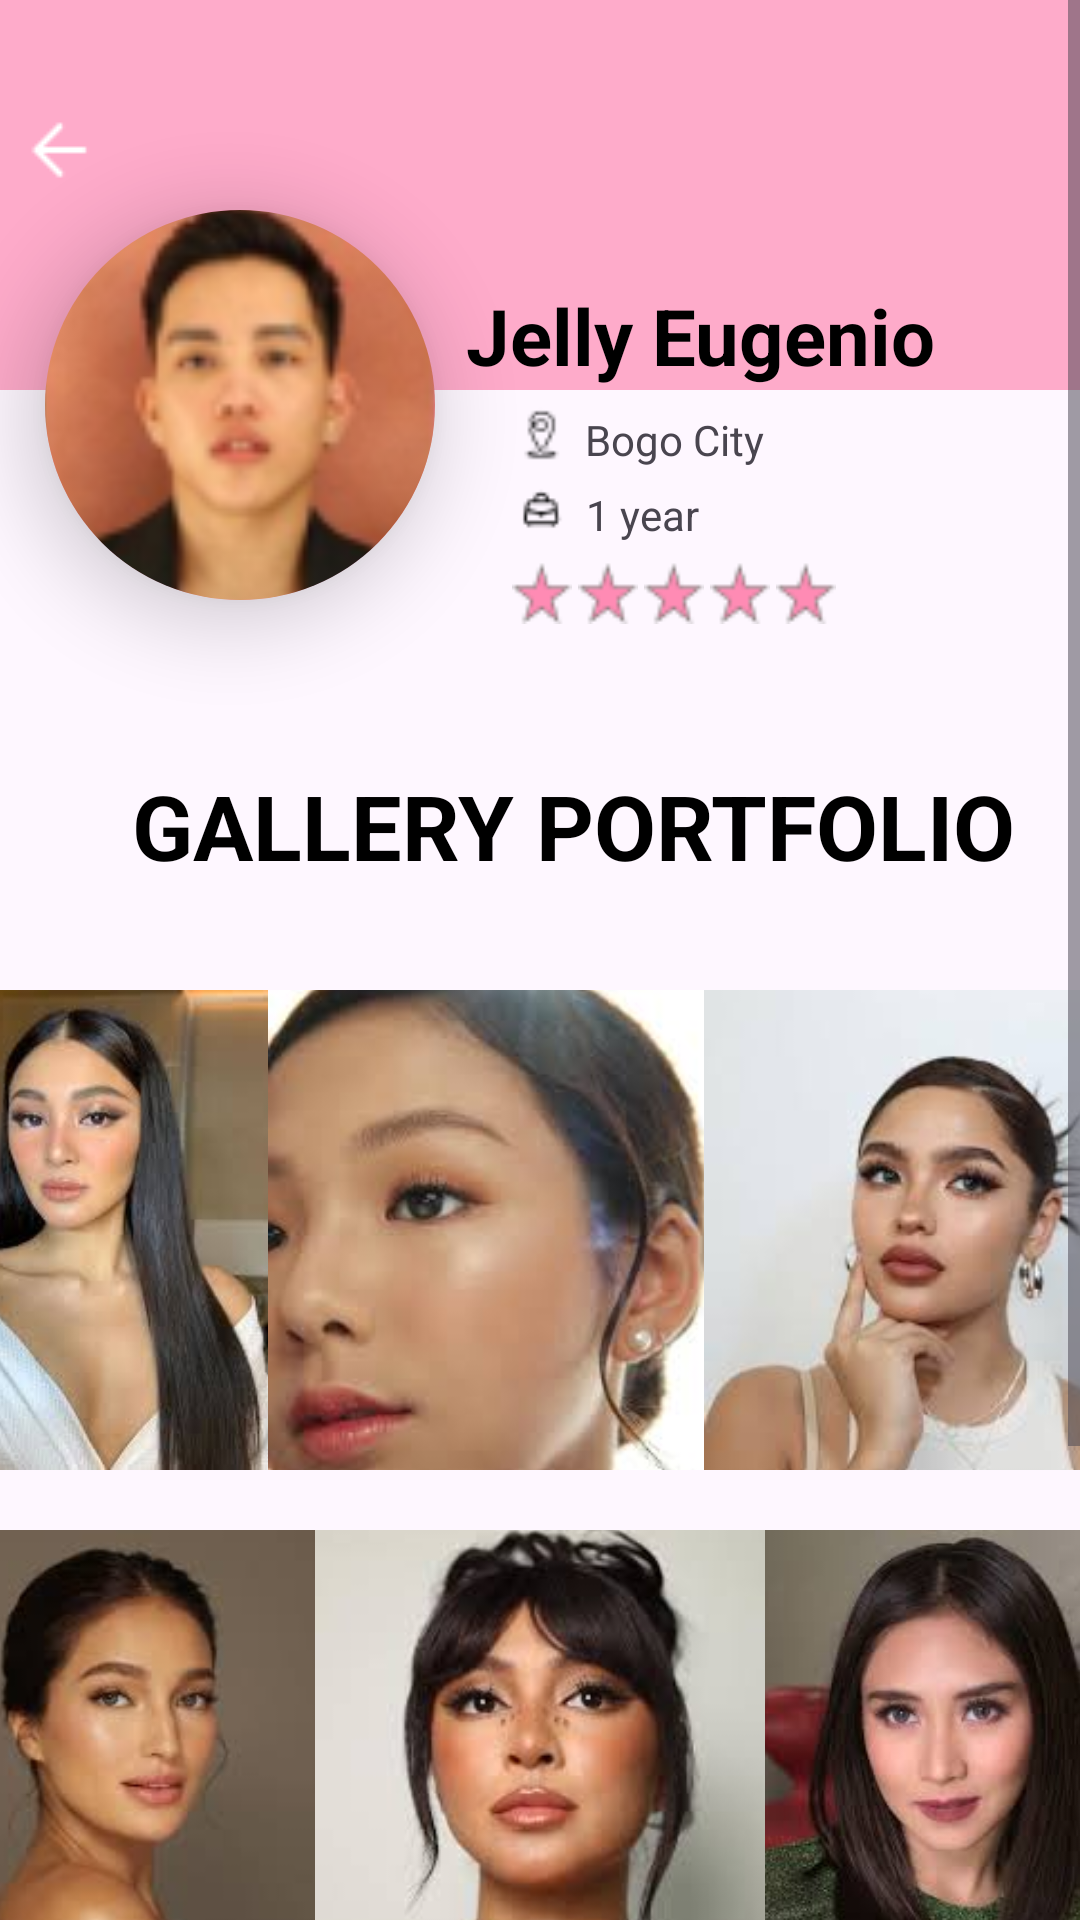

Named icons in this screenshot (1080w x 1920h) and their bounding boxes, [left=x1, top=y1, right=x2, bottom=y2]:
bag: [left=523, top=492, right=560, bottom=528]
loc: [left=525, top=411, right=558, bottom=459]
star: [left=512, top=564, right=572, bottom=624], [left=578, top=564, right=638, bottom=624], [left=644, top=564, right=704, bottom=624], [left=710, top=564, right=770, bottom=624], [left=776, top=564, right=836, bottom=624]
